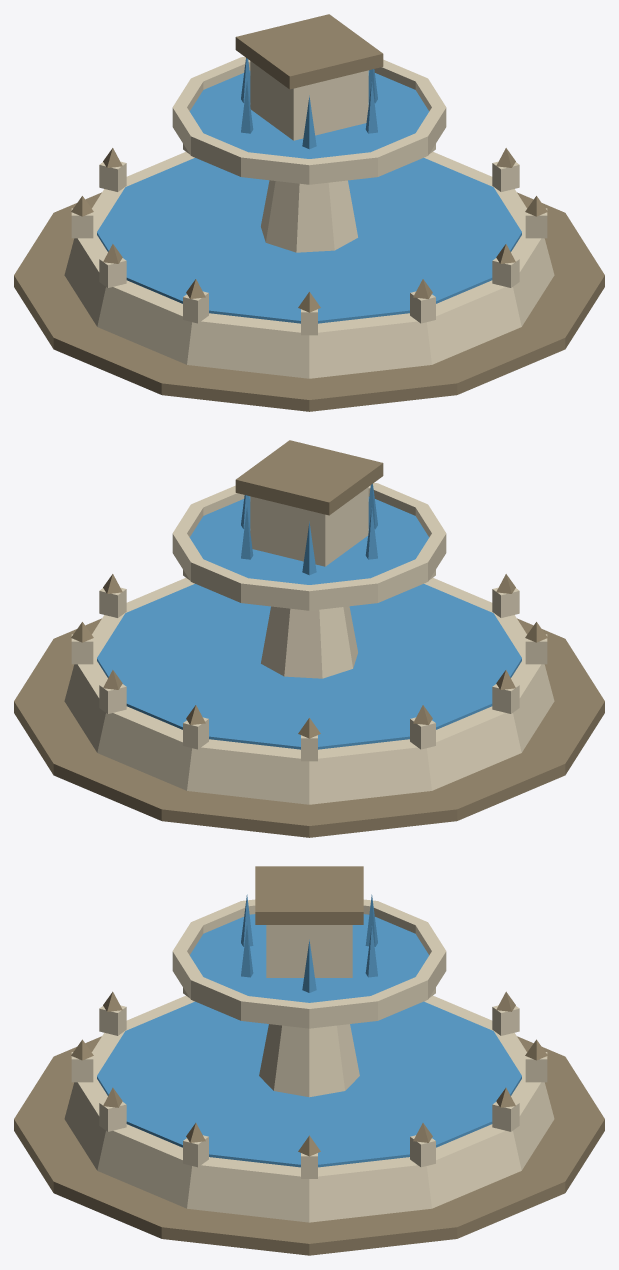
Rendered from Fountain_Plaza.fbx.
The picture shows the model from 3 angles, top to bottom: view 1: azimuth 30°, elevation 25°; view 2: azimuth 150°, elevation 25°; view 3: azimuth 270°, elevation 25°; orthographic projection.
Visible parts, largest first — view 1: Fountain_Plaza; view 2: Fountain_Plaza; view 3: Fountain_Plaza.
Part boxes in pixels (x1,y1,x2,y2): Fountain_Plaza: (14,14,604,411); Fountain_Plaza: (14,440,604,837); Fountain_Plaza: (14,866,604,1255).
Size of the model in its own units: 8.2 by 3.7 by 8.2.
